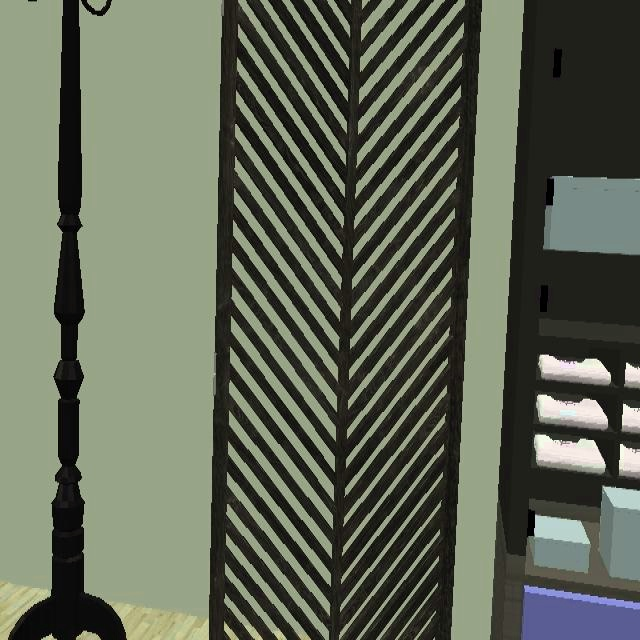lamp: (14, 0, 123, 640)
wardrobe: (490, 0, 640, 640)
